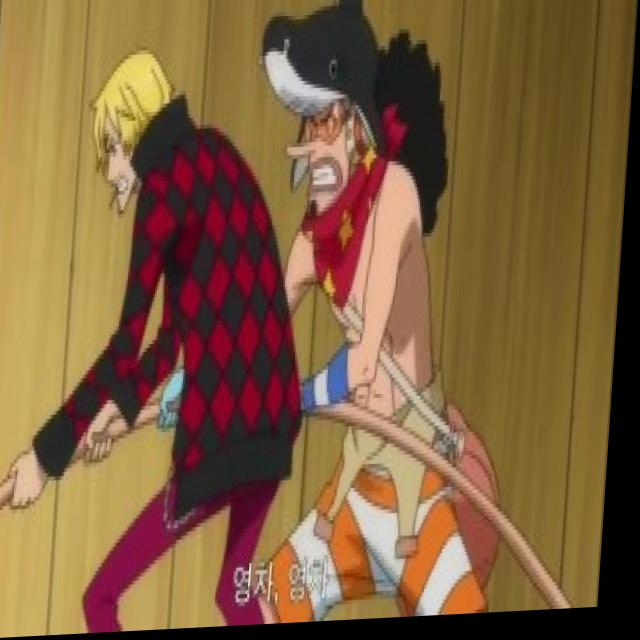Sangdi: (86, 38, 177, 227)
Usopp: (277, 61, 373, 234)
